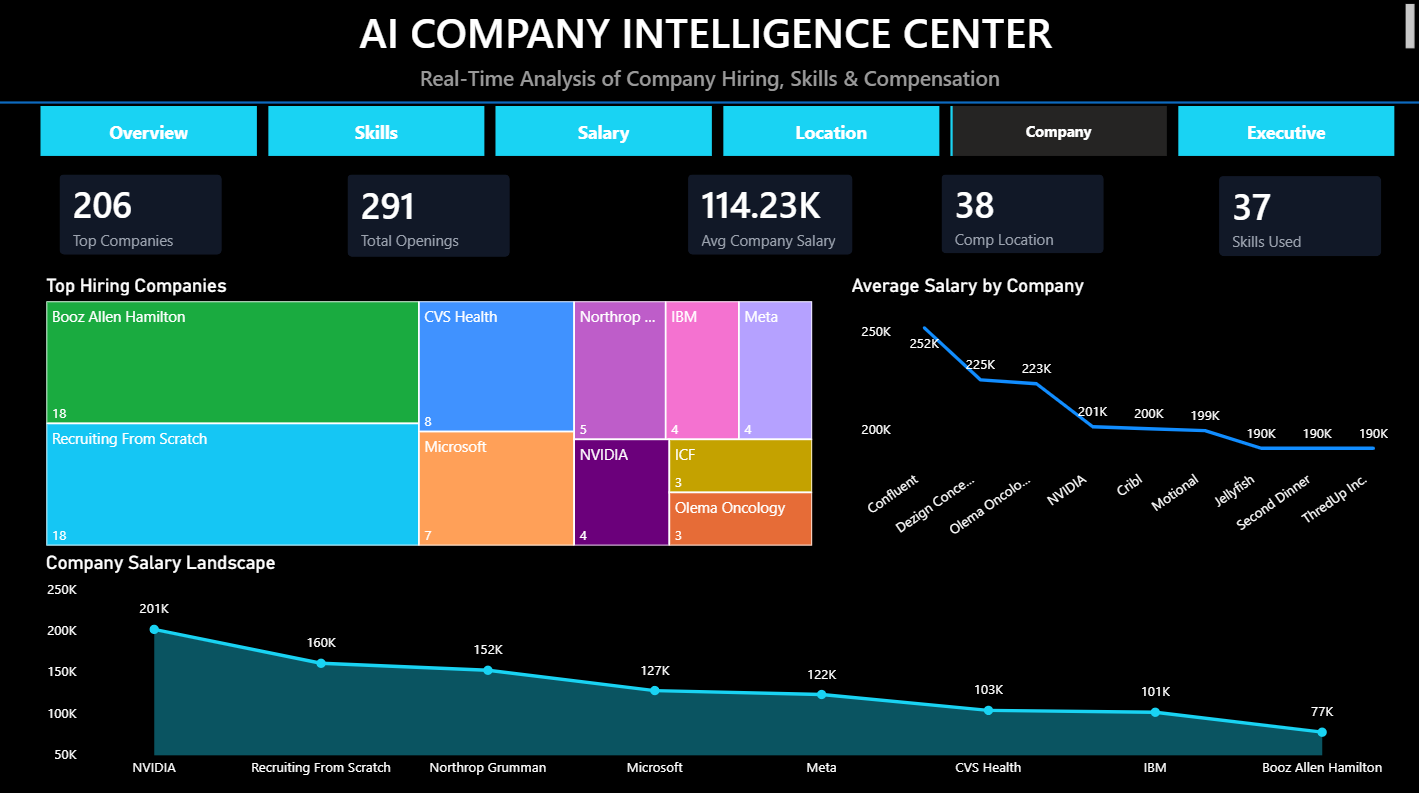

What the dashboard file says about the page in this screenshot:
{"tool":"powerbi","page":{"name":"Company","canvas":[1280,720],"ordinal":4},"visuals":[{"type":"textbox","box":[0,0,1279.5,54.4],"z":0},{"type":"textbox","box":[0,54.4,1279.5,36.8],"z":1000},{"type":"shape","box":[0,92.4,1279.5,4.5],"z":2000},{"type":"cardVisual","fields":{"Data":["final_job_list.Top Companies"]},"box":[37,142.5,180.8,106.9],"z":3000},{"type":"cardVisual","fields":{"Data":["final_job_list.Total Openings"]},"box":[295.9,142.5,180.8,108.2],"z":4000},{"type":"cardVisual","fields":{"Data":["final_job_list.Avg Company Salary"]},"box":[602.8,142.5,182.2,106.9],"z":5000},{"type":"cardVisual","fields":{"Data":["final_job_list.Top Locations Company"]},"box":[831.6,142.5,180.8,105.5],"z":6000},{"type":"cardVisual","fields":{"Data":["skills_table.Skills Used"]},"box":[1080.9,143.8,180.8,106.9],"z":7000},{"type":"treemap","title":"Top Hiring Companies","fields":{"Group":["final_job_list.Company"],"Values":["CountNonNull(final_job_list.Company)"]},"box":[37,249.3,700.1,249.3],"z":8000},{"type":"lineChart","title":"Average Salary by Company","fields":{"Category":["final_job_list.Company"],"Y":["Avg(final_job_list.Salary)"]},"box":[761.7,249.3,500,249.3],"z":9000},{"type":"areaChart","title":"Company Salary Landscape","fields":{"Category":["final_job_list.Company"],"Y":["final_job_list.Avg Company Salary"]},"box":[37,498.7,1224.8,212.3],"z":10000},{"type":"pageNavigator","box":[37,97.3,1224.8,45.2],"z":11000}]}

Visuals, with their boxes in screenshot pixels (x1, y1, x2, y2), scaled from the page's 1280x720 canvas onto the 1419x793 screenshot:
textbox: <bbox>0, 0, 1418, 60</bbox>
textbox: <bbox>0, 60, 1418, 100</bbox>
shape: <bbox>0, 102, 1418, 107</bbox>
cardVisual - final_job_list.Top Companies: <bbox>41, 157, 241, 275</bbox>
cardVisual - final_job_list.Total Openings: <bbox>328, 157, 528, 276</bbox>
cardVisual - final_job_list.Avg Company Salary: <bbox>668, 157, 870, 275</bbox>
cardVisual - final_job_list.Top Locations Company: <bbox>922, 157, 1122, 273</bbox>
cardVisual - skills_table.Skills Used: <bbox>1198, 158, 1399, 276</bbox>
"Top Hiring Companies" treemap: <bbox>41, 275, 817, 549</bbox>
"Average Salary by Company" lineChart: <bbox>844, 275, 1399, 549</bbox>
"Company Salary Landscape" areaChart: <bbox>41, 549, 1399, 783</bbox>
pageNavigator: <bbox>41, 107, 1399, 157</bbox>
